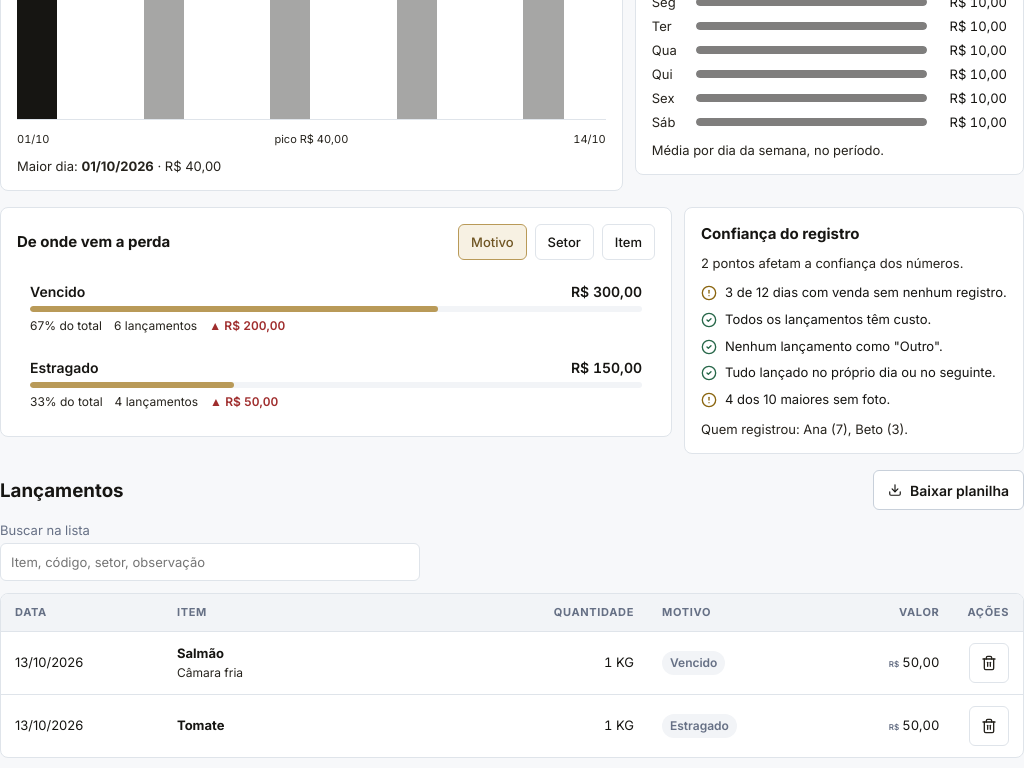
Test: Análise: de onde vem a perda › clicar numa linha do ranking filtra a lista; clicar de novo desfaz
(page scrolled)
Click the button "Estragado R$ 150,00 33% do total 4 lançamentos ▲ R$ 50,00" at (336, 384), box [17, 348, 655, 420]
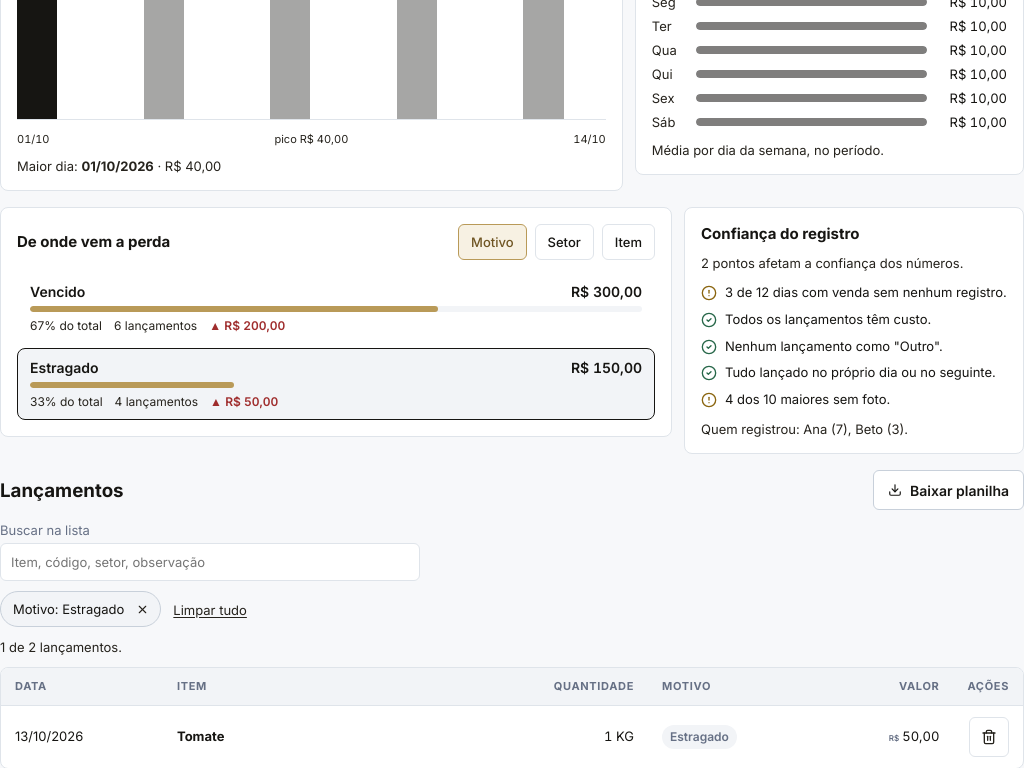
Expected: the text "1 de 2 lançamentos." is shown, [0, 639, 122, 655]
Click the button "Estragado R$ 150,00 33% do total 4 lançamentos ▲ R$ 50,00" at (336, 384), box [17, 348, 655, 420]
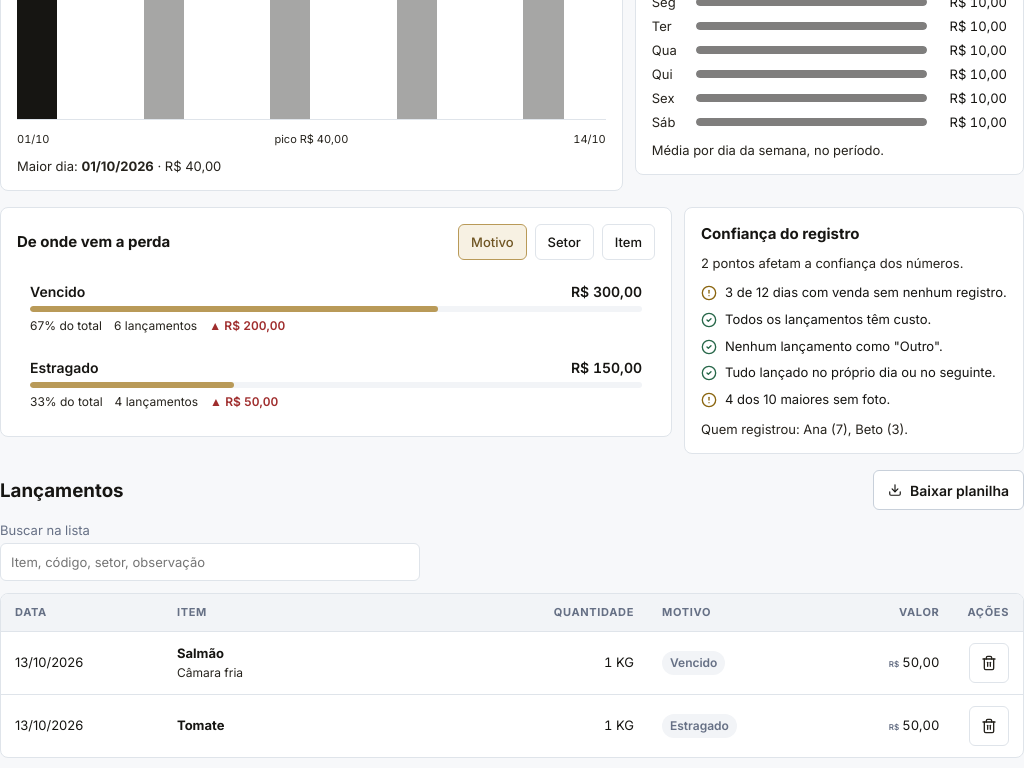
Expected: the text "1 de 2 lançamentos." is gone
